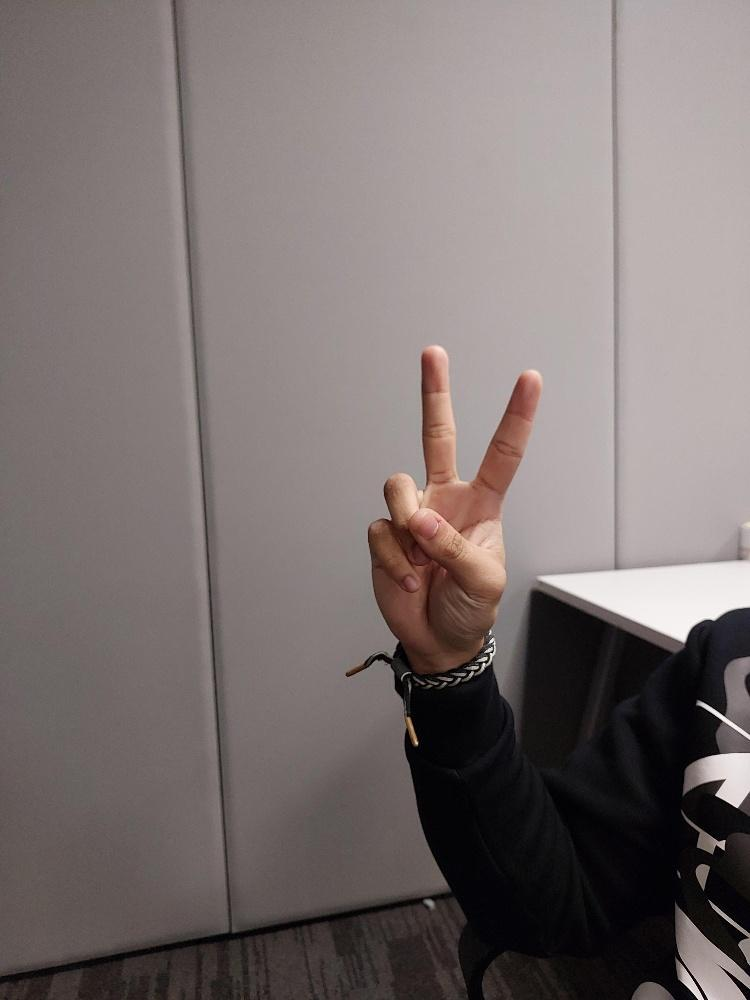v: (366, 342, 543, 647)
